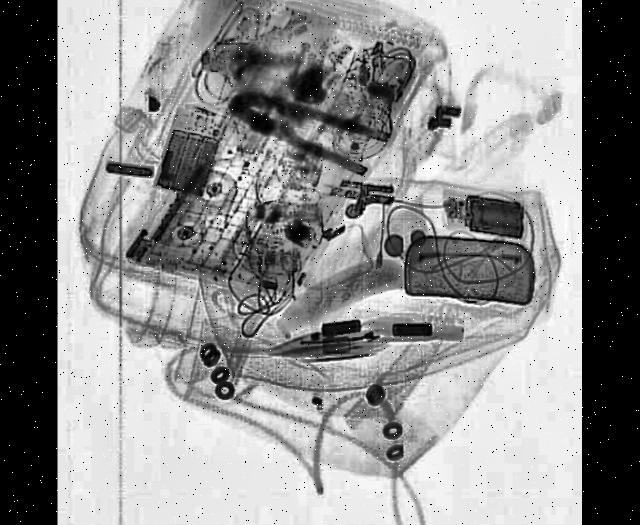Pliers: (225, 75, 388, 184)
